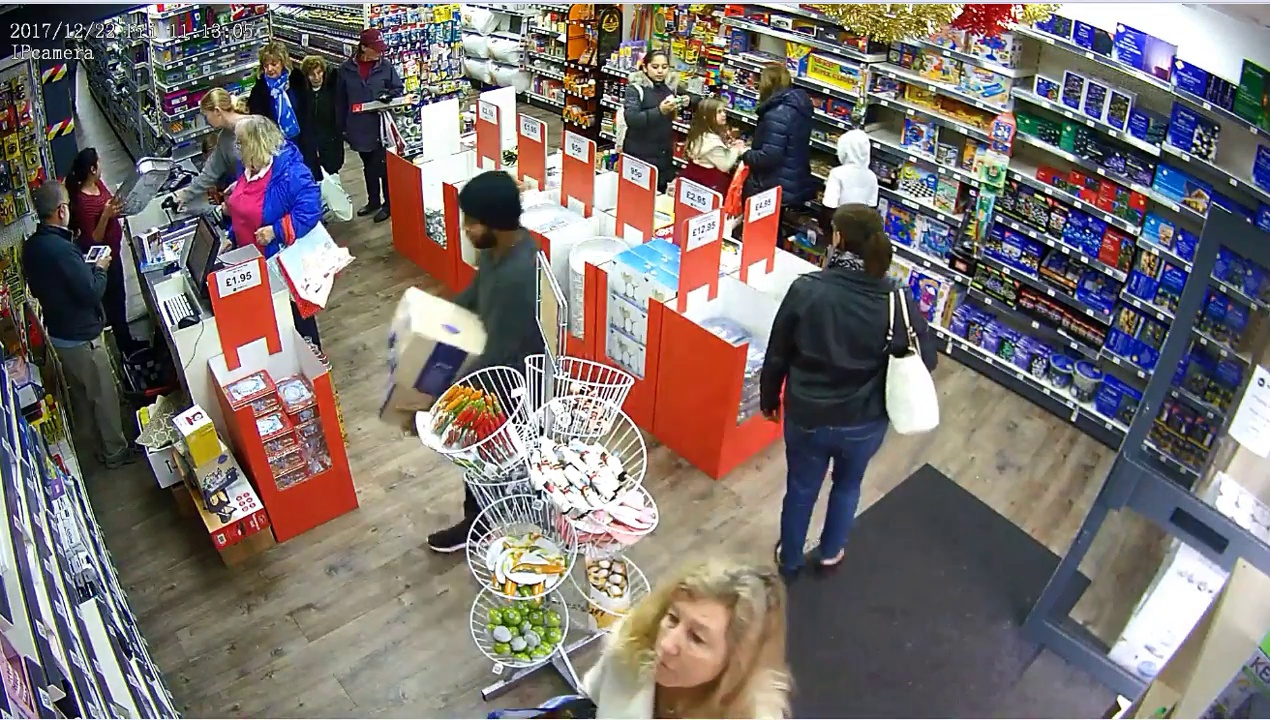face: (644, 593, 722, 688), (641, 56, 674, 82), (258, 52, 282, 82), (307, 61, 327, 90), (710, 106, 726, 125)
